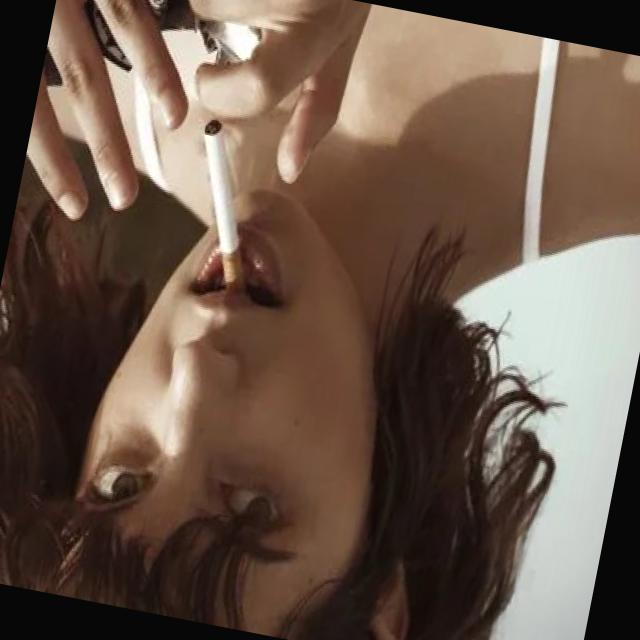cigarette: (170, 110, 276, 295)
